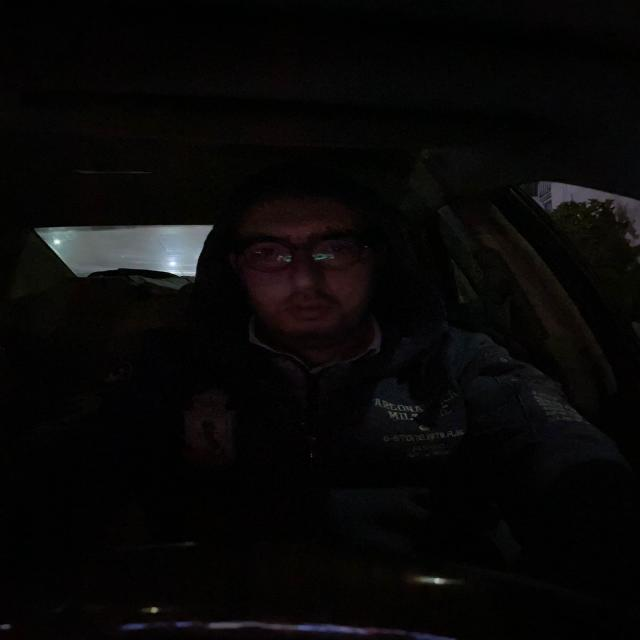person: (217, 175, 405, 362)
